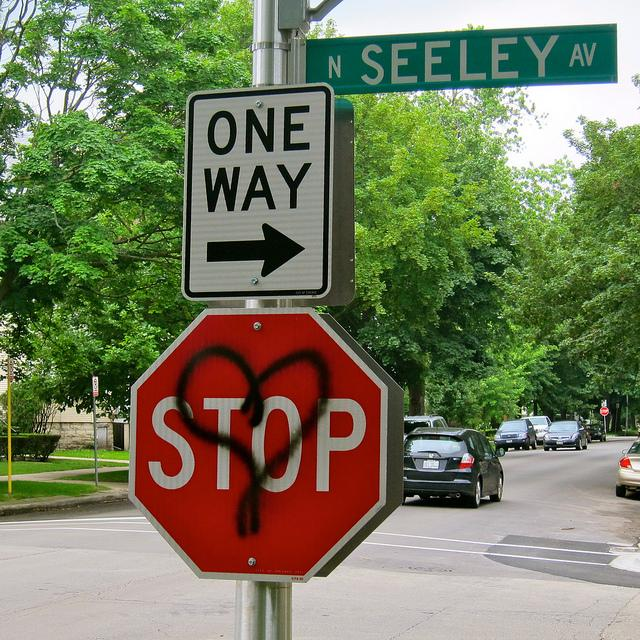Vehicle: (403, 426, 505, 506), (615, 438, 640, 498), (493, 419, 538, 452), (543, 419, 588, 451), (404, 416, 449, 442), (518, 415, 552, 445), (590, 430, 606, 442)
